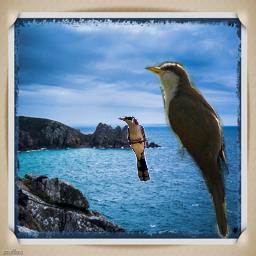Cuckoo: (144, 61, 233, 241), (118, 116, 151, 182)
